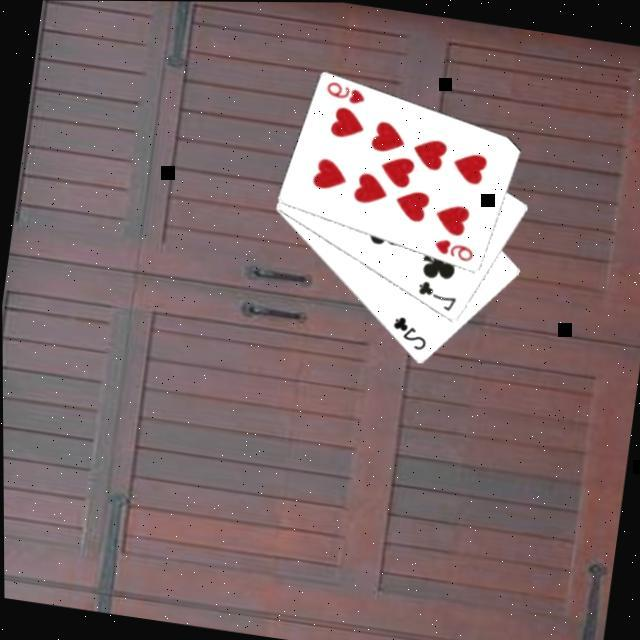2C: (384, 311, 431, 353)
7C: (409, 275, 459, 313)
9H: (428, 233, 475, 263), (320, 76, 367, 106)
